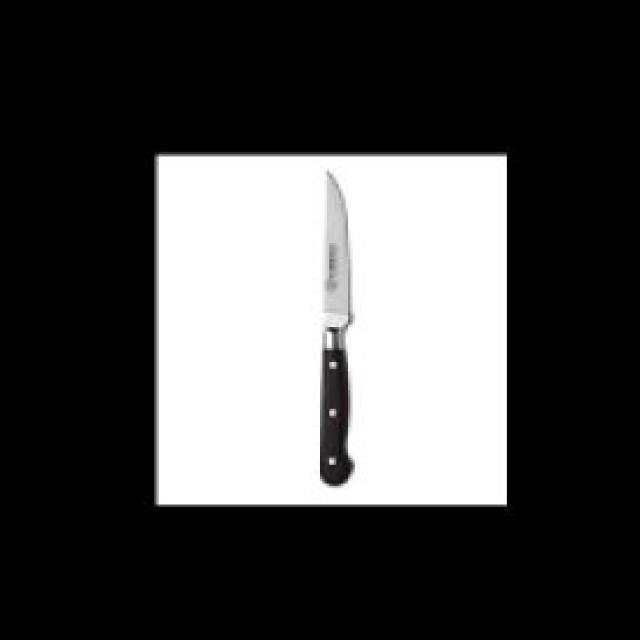knife: (313, 157, 360, 488)
